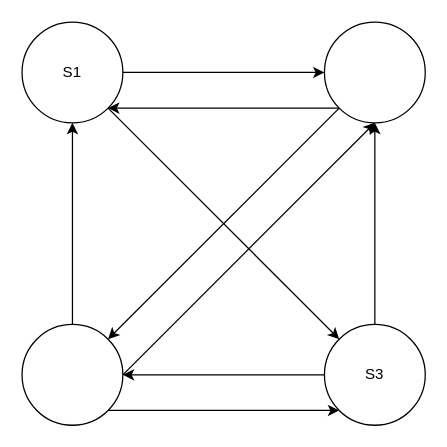
Some shapes in this 447 by 447 pixel diagram are drawn without their labels. Here are the shapes that lost their labels. From the top down, the centre of each, then its label:
(374,72): S2
(72,374): S4
